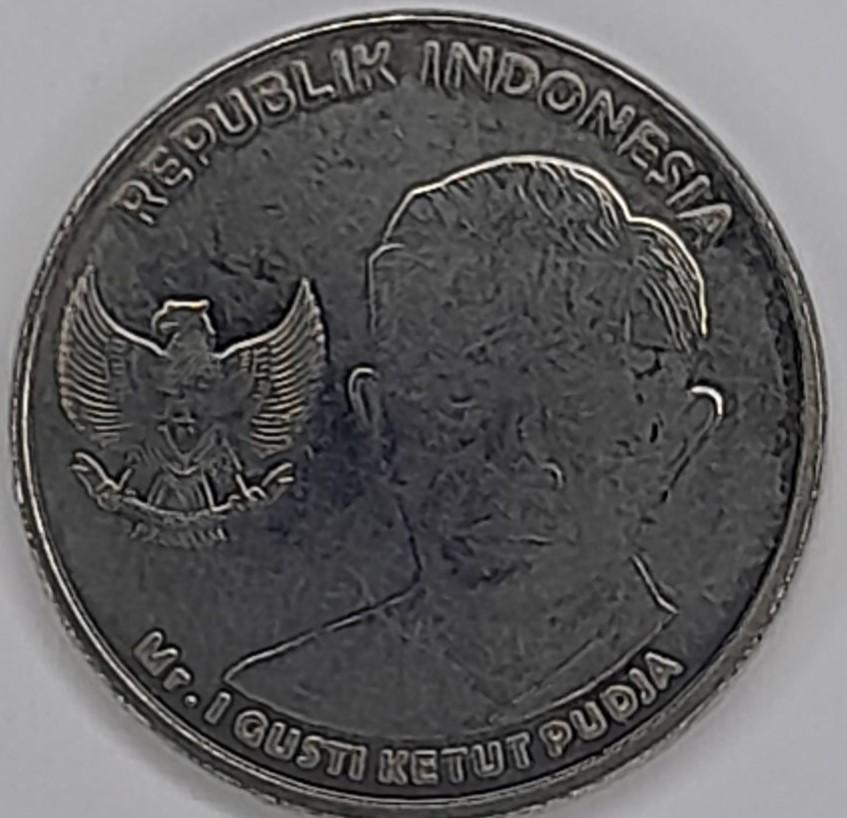coin_1000_e2016: (14, 16, 836, 818)
